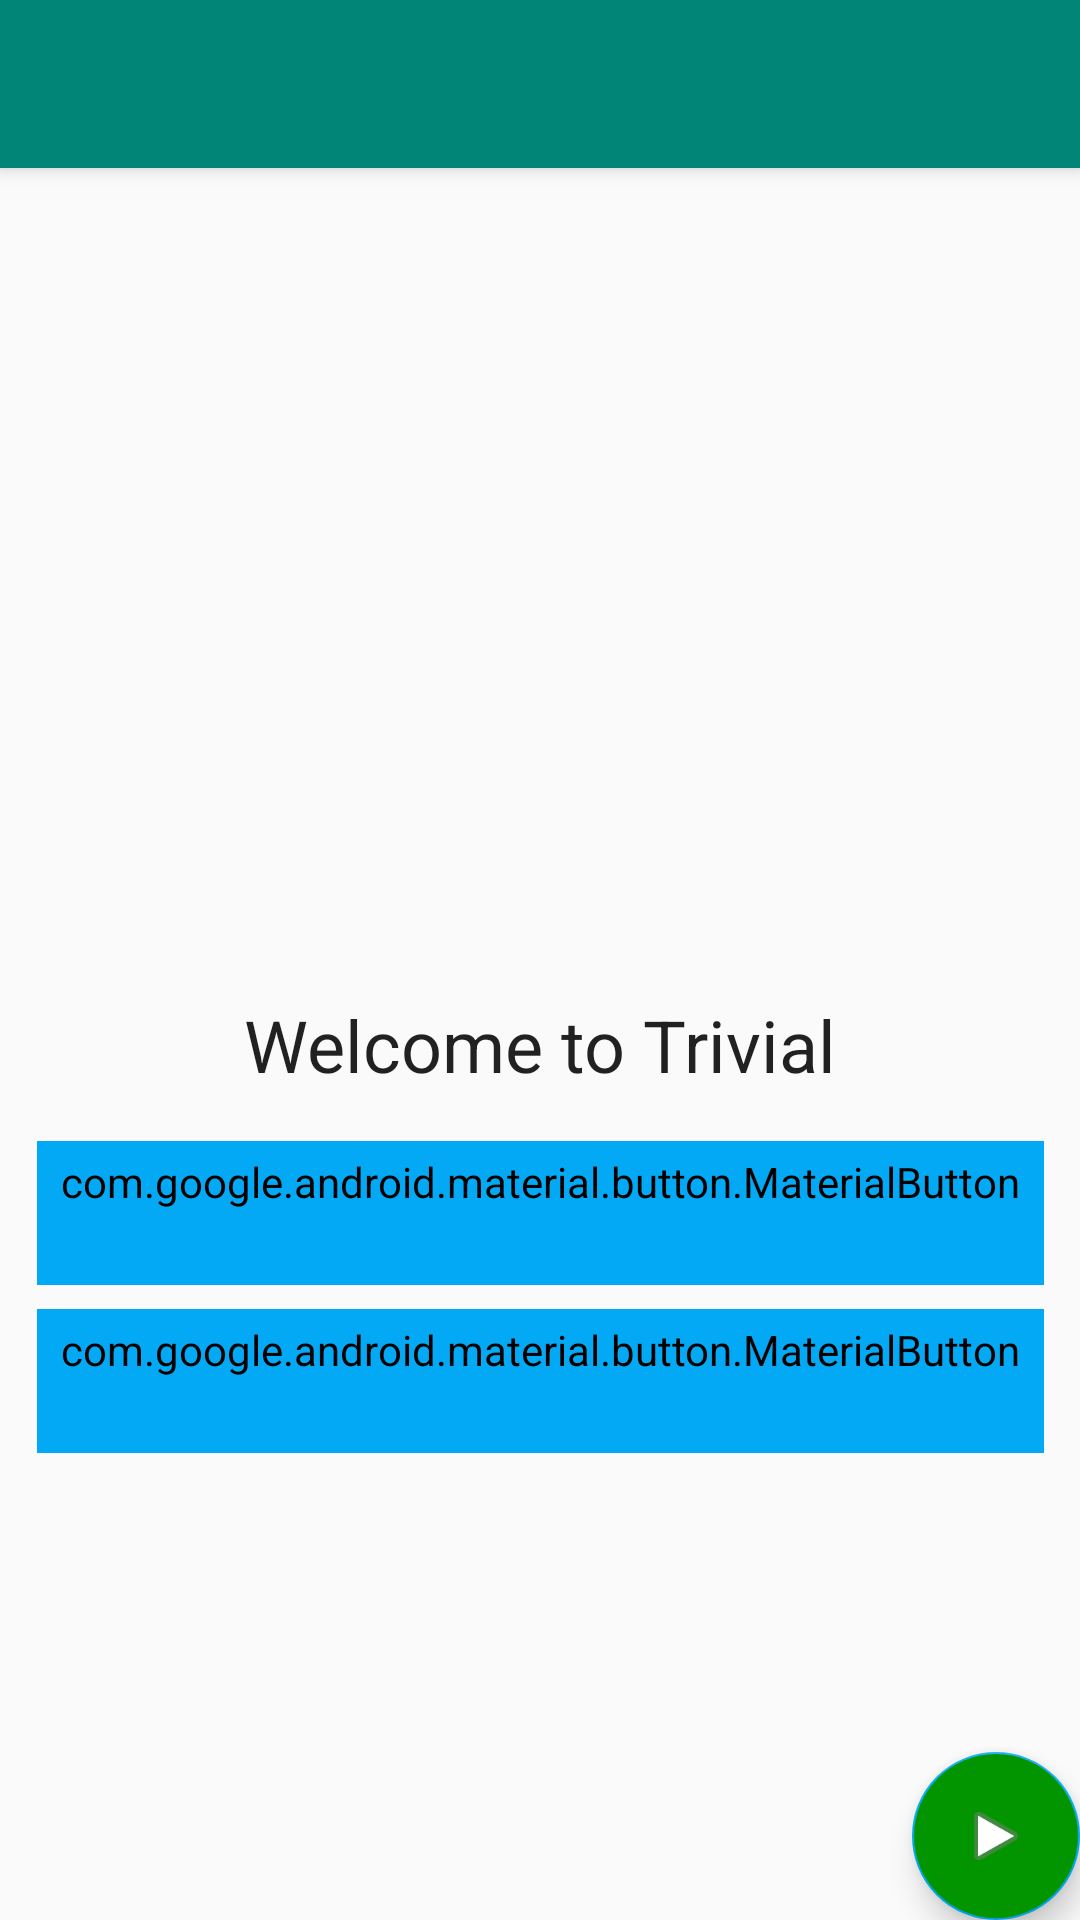

Icon click points for this 1080*1920 phone screenshot, format (x,y):
play: (996,1836)
